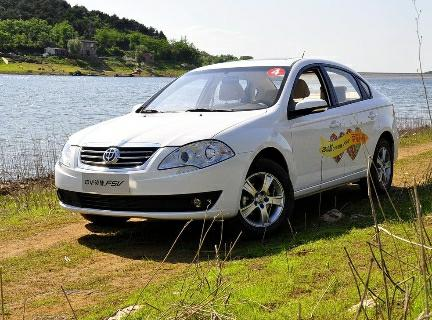car: (33, 52, 407, 248)
